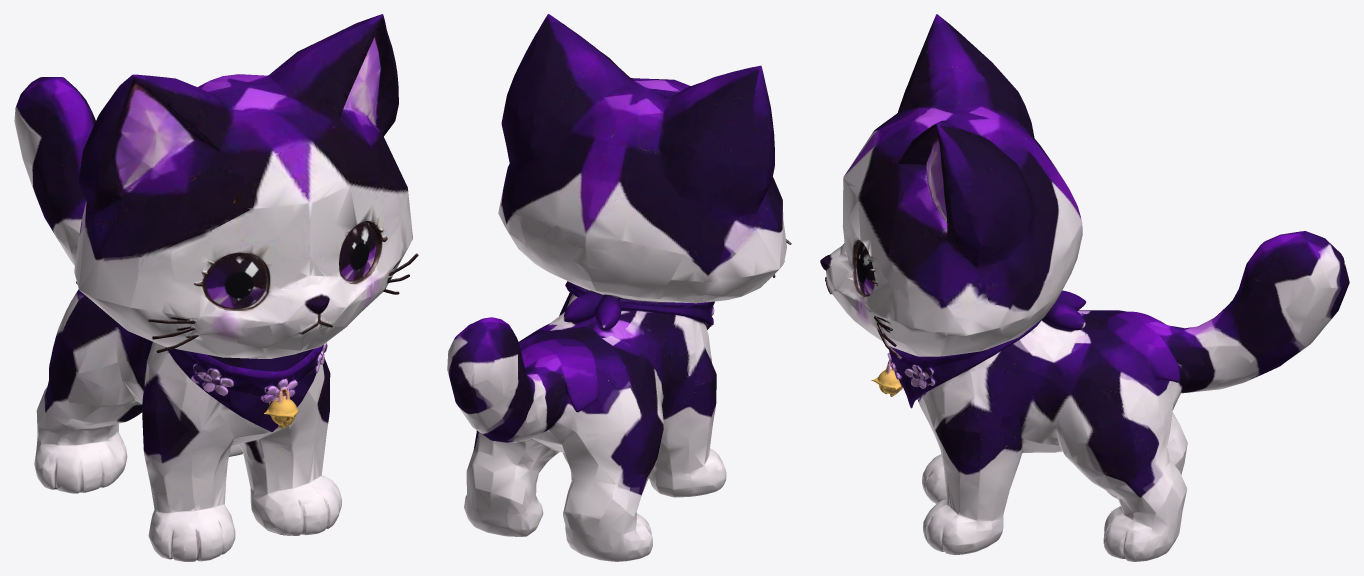
The model's file is cat-standing.glb.
3 views of the same model, side by side, from view 1: azimuth 30°, elevation 25°; view 2: azimuth 150°, elevation 25°; view 3: azimuth 270°, elevation 25° (orthographic). The views are drawn at different scales.
Bounding box in the file's own units: 1.21 × 1.78 × 1.9.
1 material, 1 textured.
